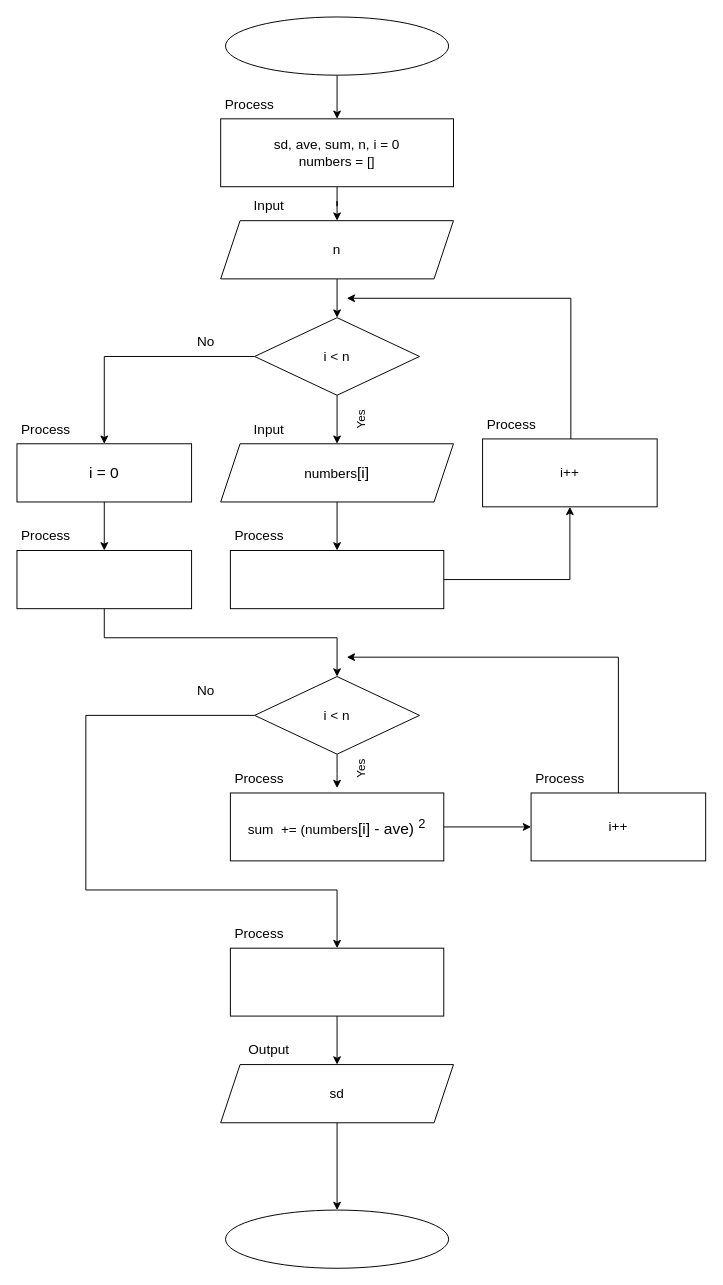
Some shapes in this 723 by 1285 pixel diagram are drawn without their labels. Here are the shapes that lost their labels. From the top down, the box of each, then its label:
(225, 16, 449, 75): start
(16, 550, 192, 609): ave /= n
(229, 550, 444, 609): ave += numbers [i]
(229, 947, 444, 1016): sd = Sqrt(sum)
(225, 1209, 449, 1268): End
